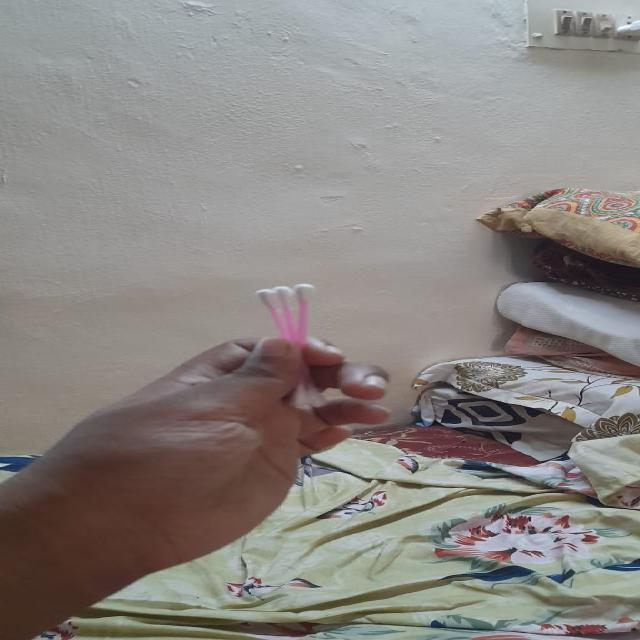Earbud - Non Recyclable: (252, 282, 320, 410)
